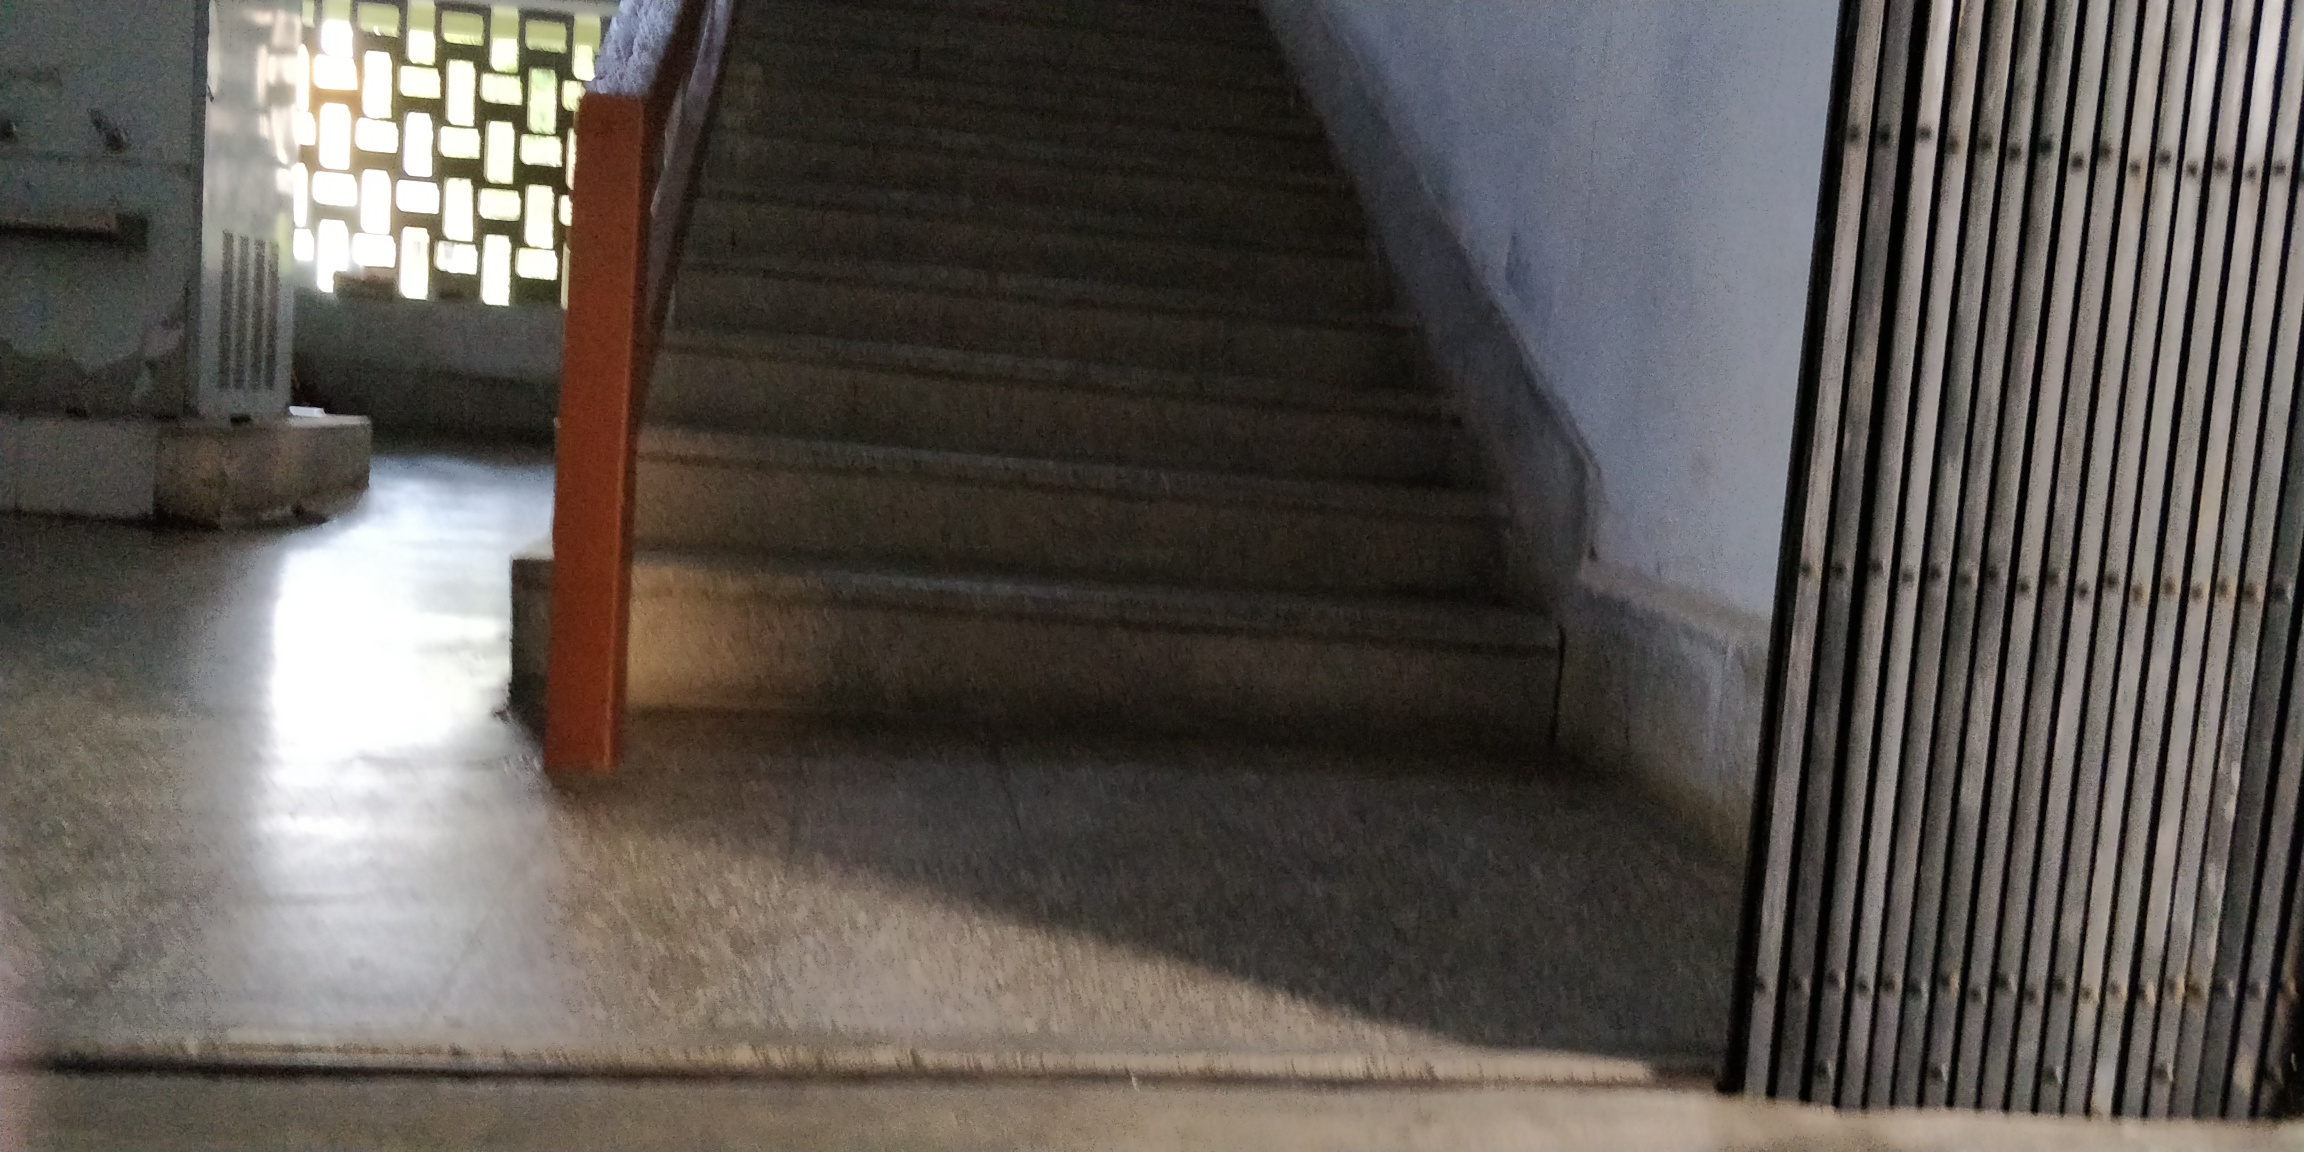stairs_up: (648, 9, 1553, 776)
